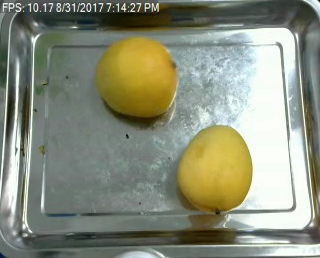Mango: (92, 36, 181, 119), (175, 121, 252, 216)
